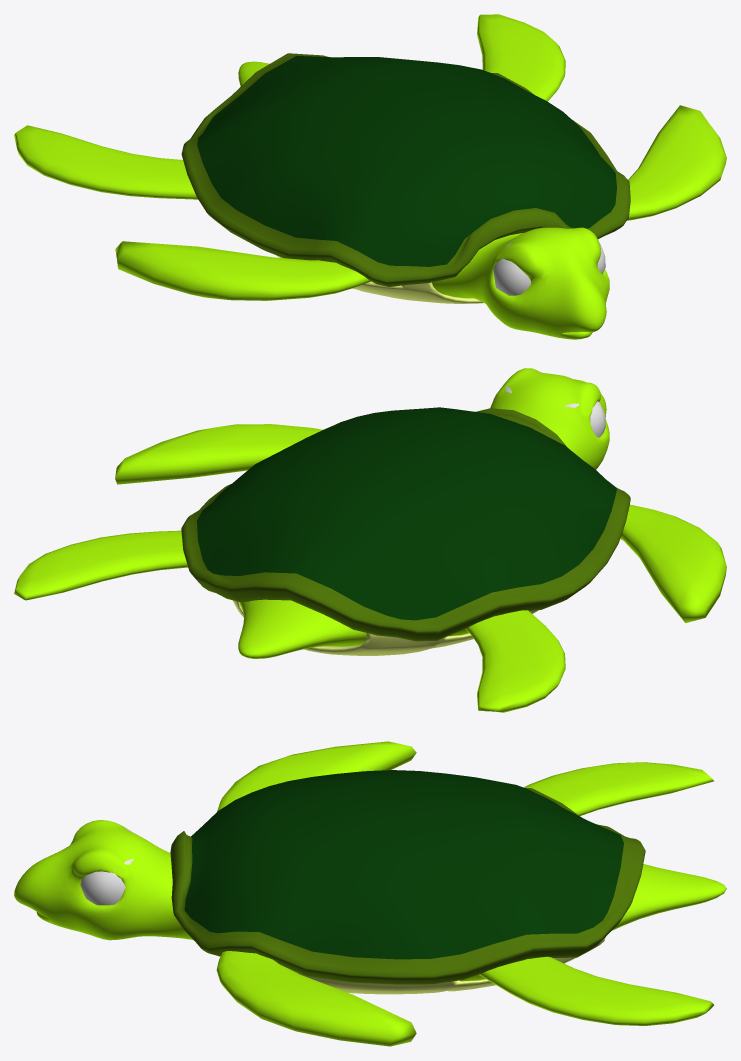
File: Turtle.fbx
3 views of the same model, one above another, from view 1: azimuth 30°, elevation 25°; view 2: azimuth 150°, elevation 25°; view 3: azimuth 270°, elevation 25° (orthographic).
Visible parts, largest first — view 1: turtle; view 2: turtle; view 3: turtle.
Part boxes in pixels (x1,y1,x2,y2): turtle: (14, 14, 726, 339); turtle: (14, 368, 726, 712); turtle: (14, 741, 726, 1046).
Bounding box in the file's own units: 23.93 × 6.23 × 24.79.
